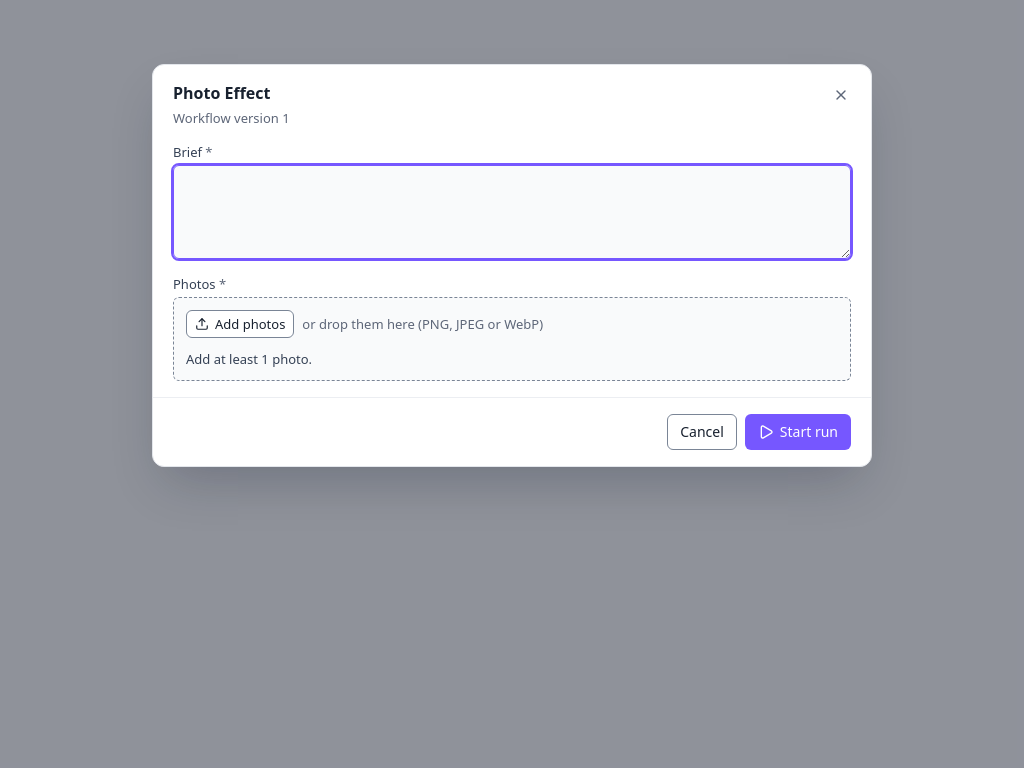
Test: RunInputDialog — photo set › blocks Start run below the schema minimum
The width and height of the screenshot is (1024, 768).
In the text box labelled "Brief *": point(512, 212) [173,165,851,259], type "clay"
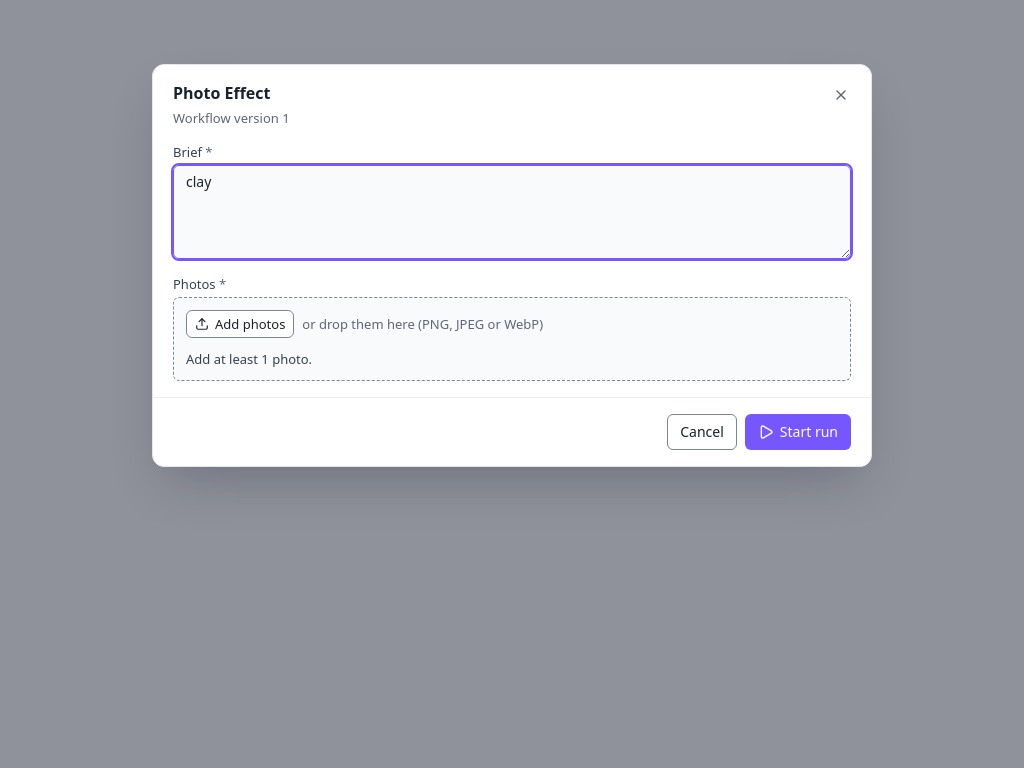
Click the button "Start run": point(798, 432) [745,414,851,450]
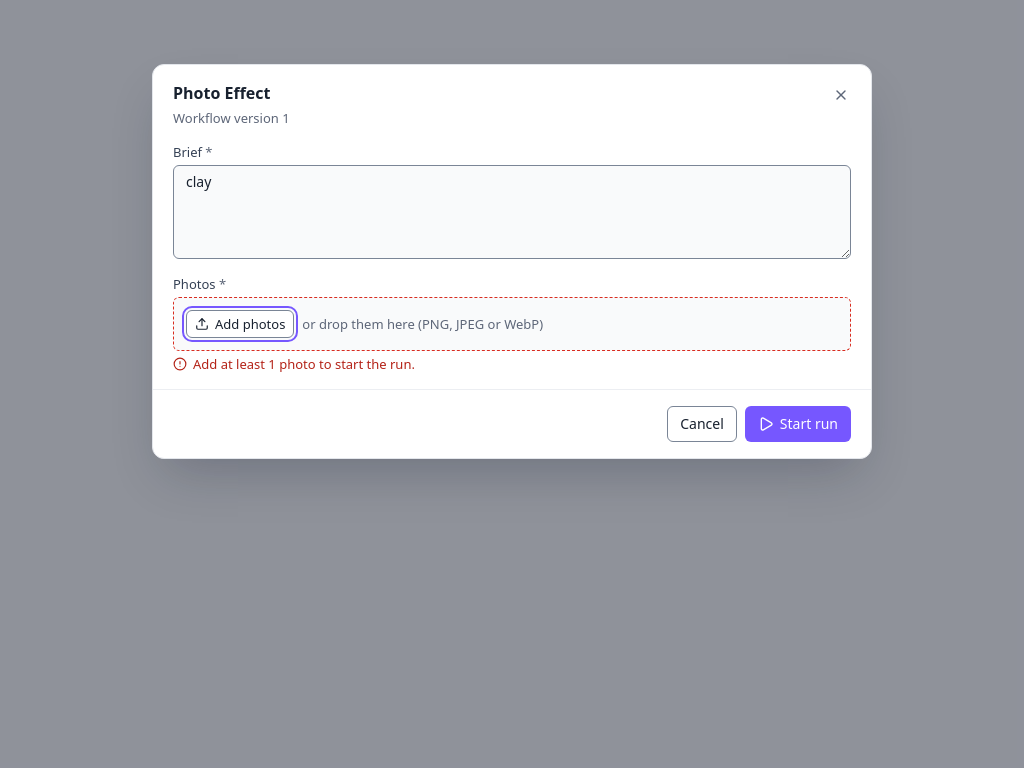
Now the text "Add at least 1 photo to start the run." is shown, box [173,355,415,373]
